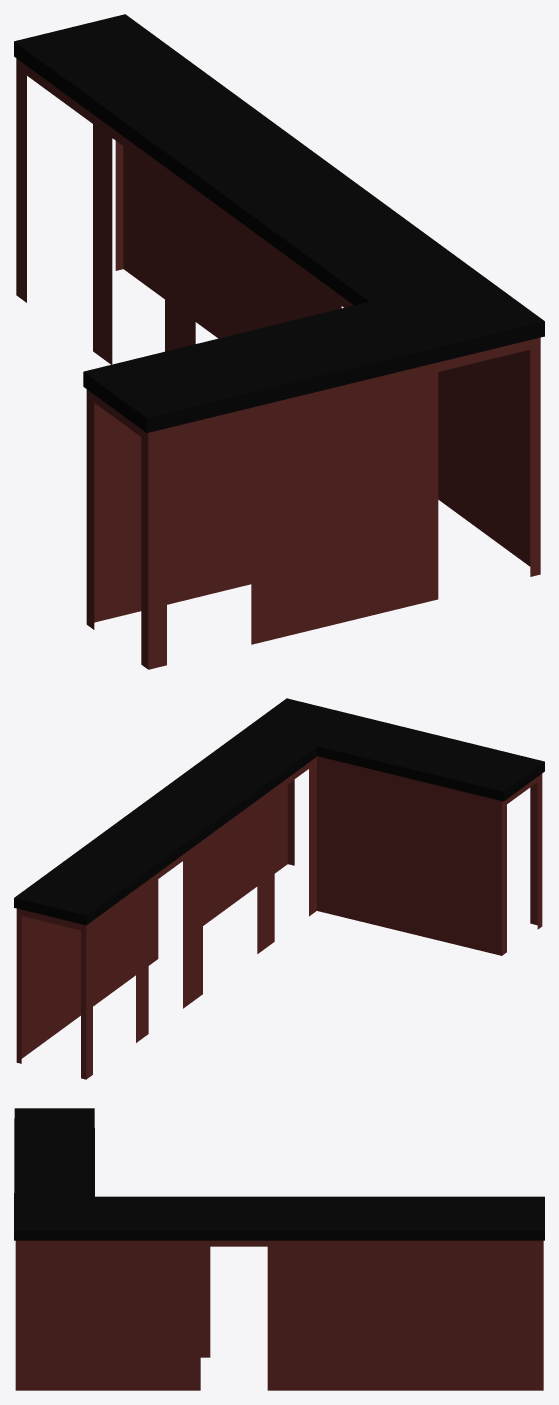
The model's file is Hall.fbx.
3 views of the same model, one above another, from view 1: azimuth 30°, elevation 25°; view 2: azimuth 150°, elevation 25°; view 3: azimuth 270°, elevation 25° (orthographic). The views are drawn at different scales.
Visible parts, largest first — view 1: Hall; view 2: Hall; view 3: Hall.
Boxes of the visible parts, x1,y1,x2,y2 form: Hall: (14, 14, 544, 669); Hall: (14, 698, 544, 1079); Hall: (14, 1108, 544, 1390).
Size of the model in its own units: 384 by 234 by 702.
